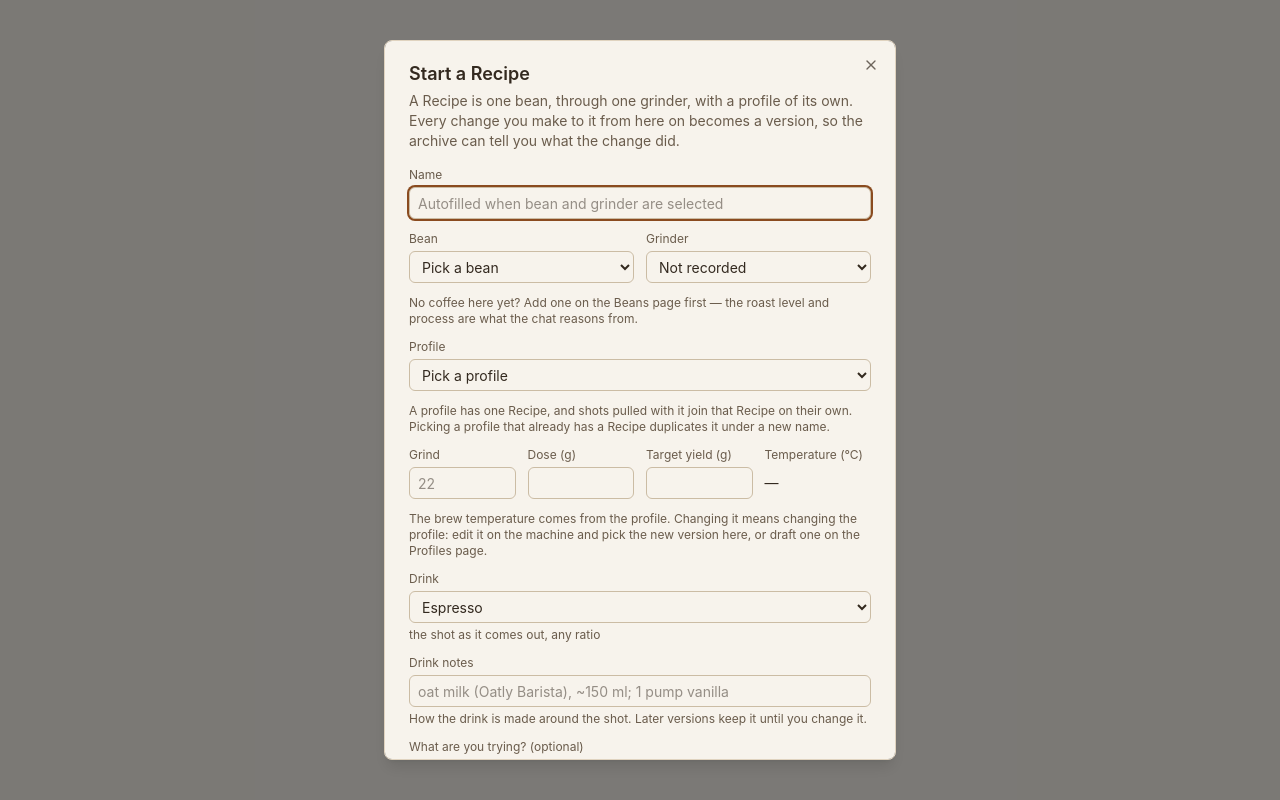
NewRecipeDialog › a profile that already has a Recipe › selects the saved duplicate and fills the recipe from it
Select "Lever 6 bar (Kenya)" in the dropdown labelled "Profile" at [640, 375], box [409,359,871,391]
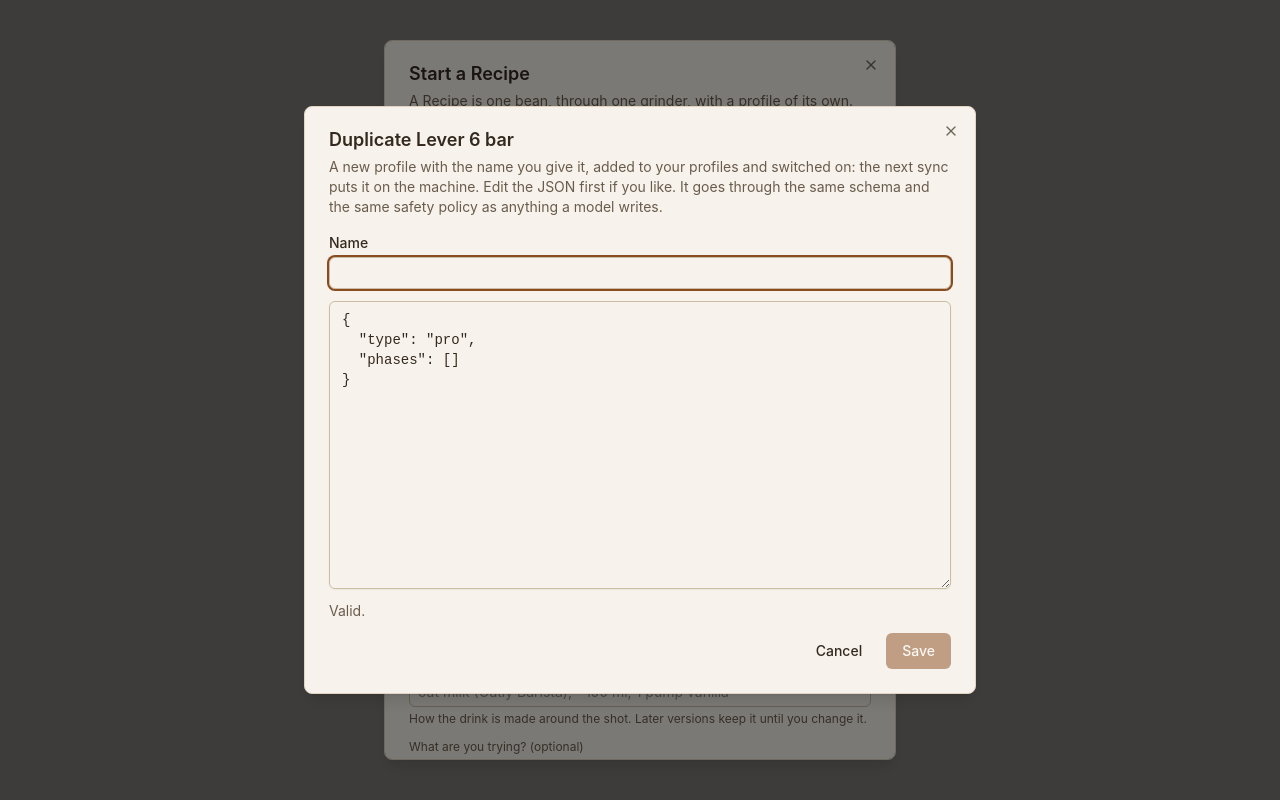
Now the text "Valid." is shown, box [329,602,365,619]
Type "Lever for Guji" into the field with test id "duplicate-profile-name" at [640, 273], box [329,257,951,289]
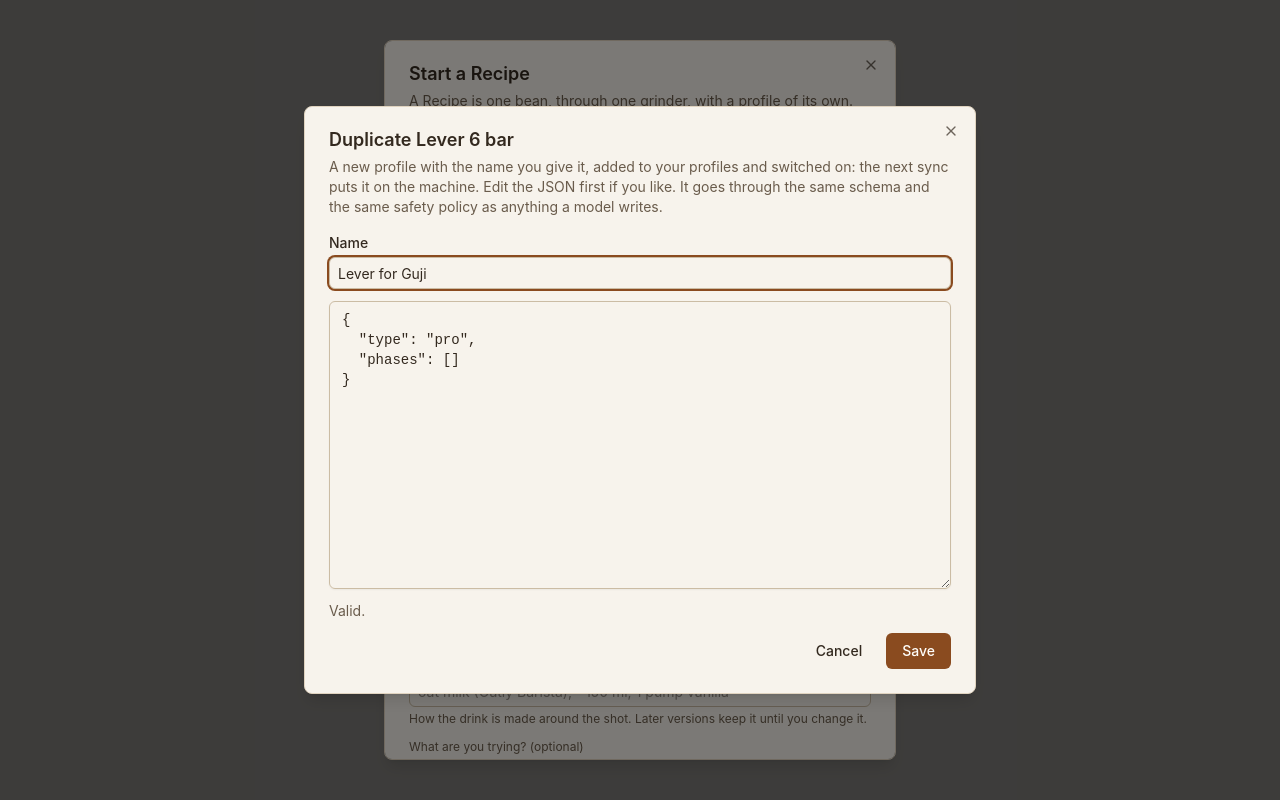
Click the button with test id "save-duplicate" at [919, 651], box [886,633,951,669]
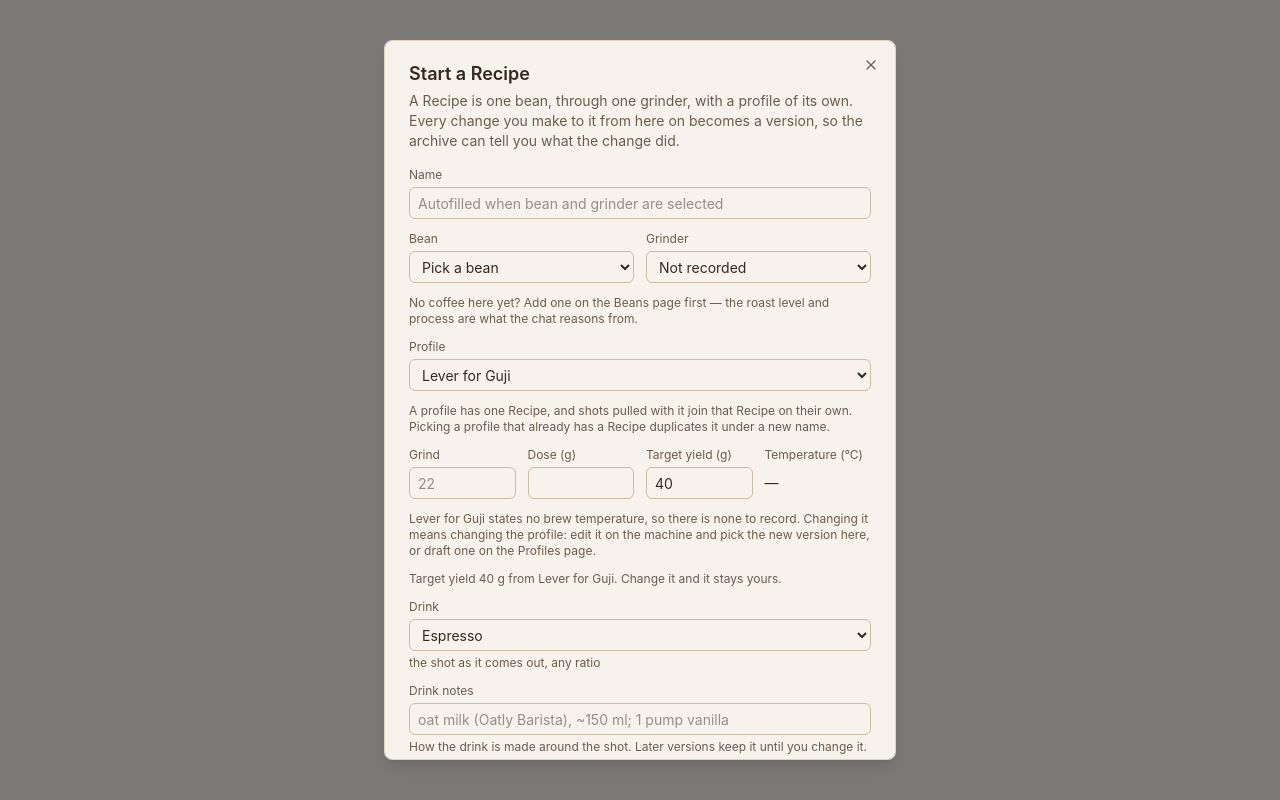
Now the field labelled "Target yield (g)" holds "40", box [646,467,752,499]
Now the heading "Duplicate Lever 6 bar" is gone
